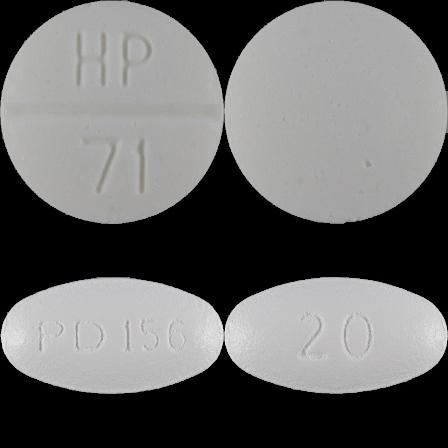53808-0949: (0, 0, 224, 224)
